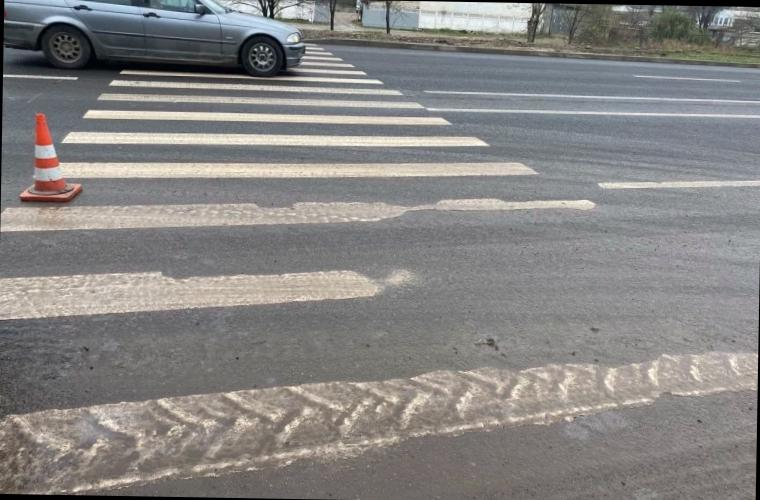faded_road_lines: (0, 325, 758, 500), (0, 166, 615, 265), (5, 237, 644, 332), (597, 172, 760, 198)
